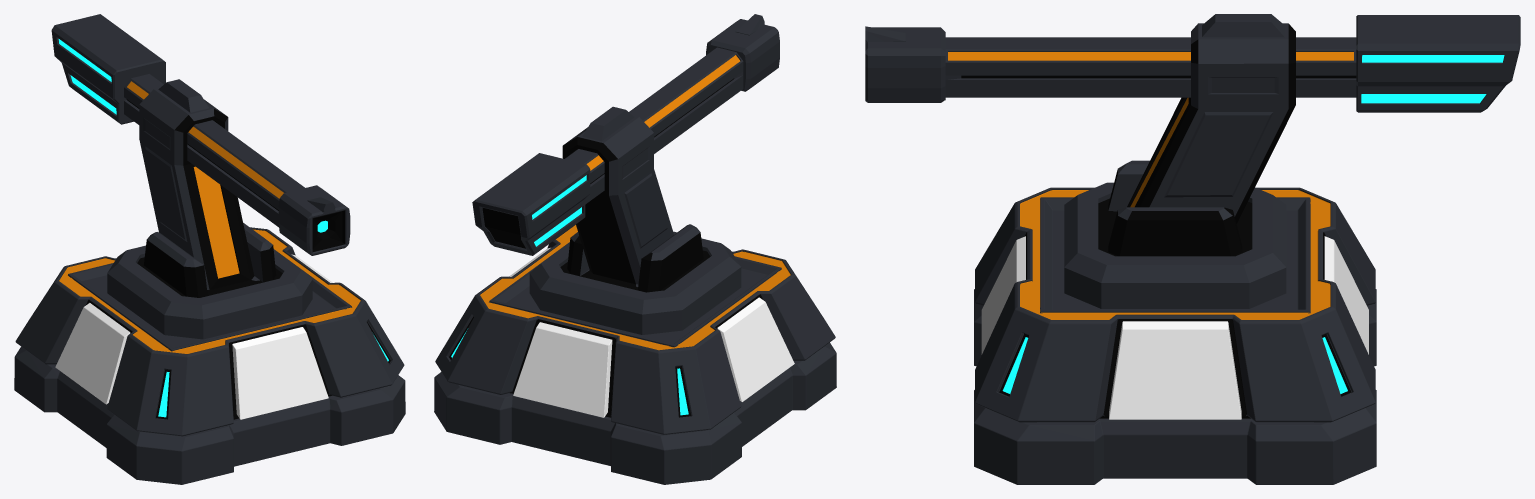
The model's file is SM_Rifle_Turret.fbx.
3 views of the same model, side by side, from view 1: azimuth 30°, elevation 25°; view 2: azimuth 150°, elevation 25°; view 3: azimuth 270°, elevation 25° (orthographic). The views are drawn at different scales.
Visible parts, largest first — view 1: SM_Rifle_Turret_Base, SM_Rifle_Turret_Head, SM_Rifle_Turret_Gun; view 2: SM_Rifle_Turret_Base, SM_Rifle_Turret_Head, SM_Rifle_Turret_Gun; view 3: SM_Rifle_Turret_Base, SM_Rifle_Turret_Head, SM_Rifle_Turret_Gun.
Part boxes in pixels (<box>): SM_Rifle_Turret_Base: <box>14,227,405,484</box>; SM_Rifle_Turret_Head: <box>107,79,312,339</box>; SM_Rifle_Turret_Gun: <box>51,14,350,255</box>; SM_Rifle_Turret_Base: <box>434,224,836,484</box>; SM_Rifle_Turret_Head: <box>529,106,741,334</box>; SM_Rifle_Turret_Gun: <box>472,14,779,255</box>; SM_Rifle_Turret_Base: <box>974,187,1376,484</box>; SM_Rifle_Turret_Head: <box>1064,14,1295,308</box>; SM_Rifle_Turret_Gun: <box>865,15,1520,112</box>.
Bounding box in the file's own units: 100 × 105 × 163.
